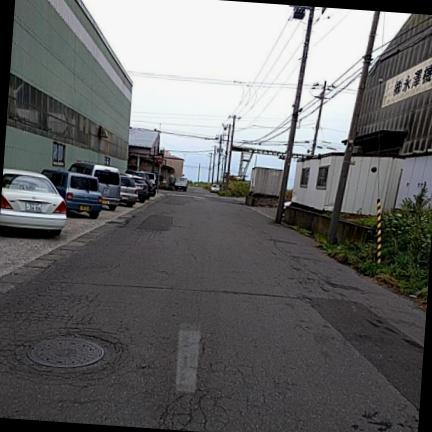Road: (0, 189, 425, 431)
